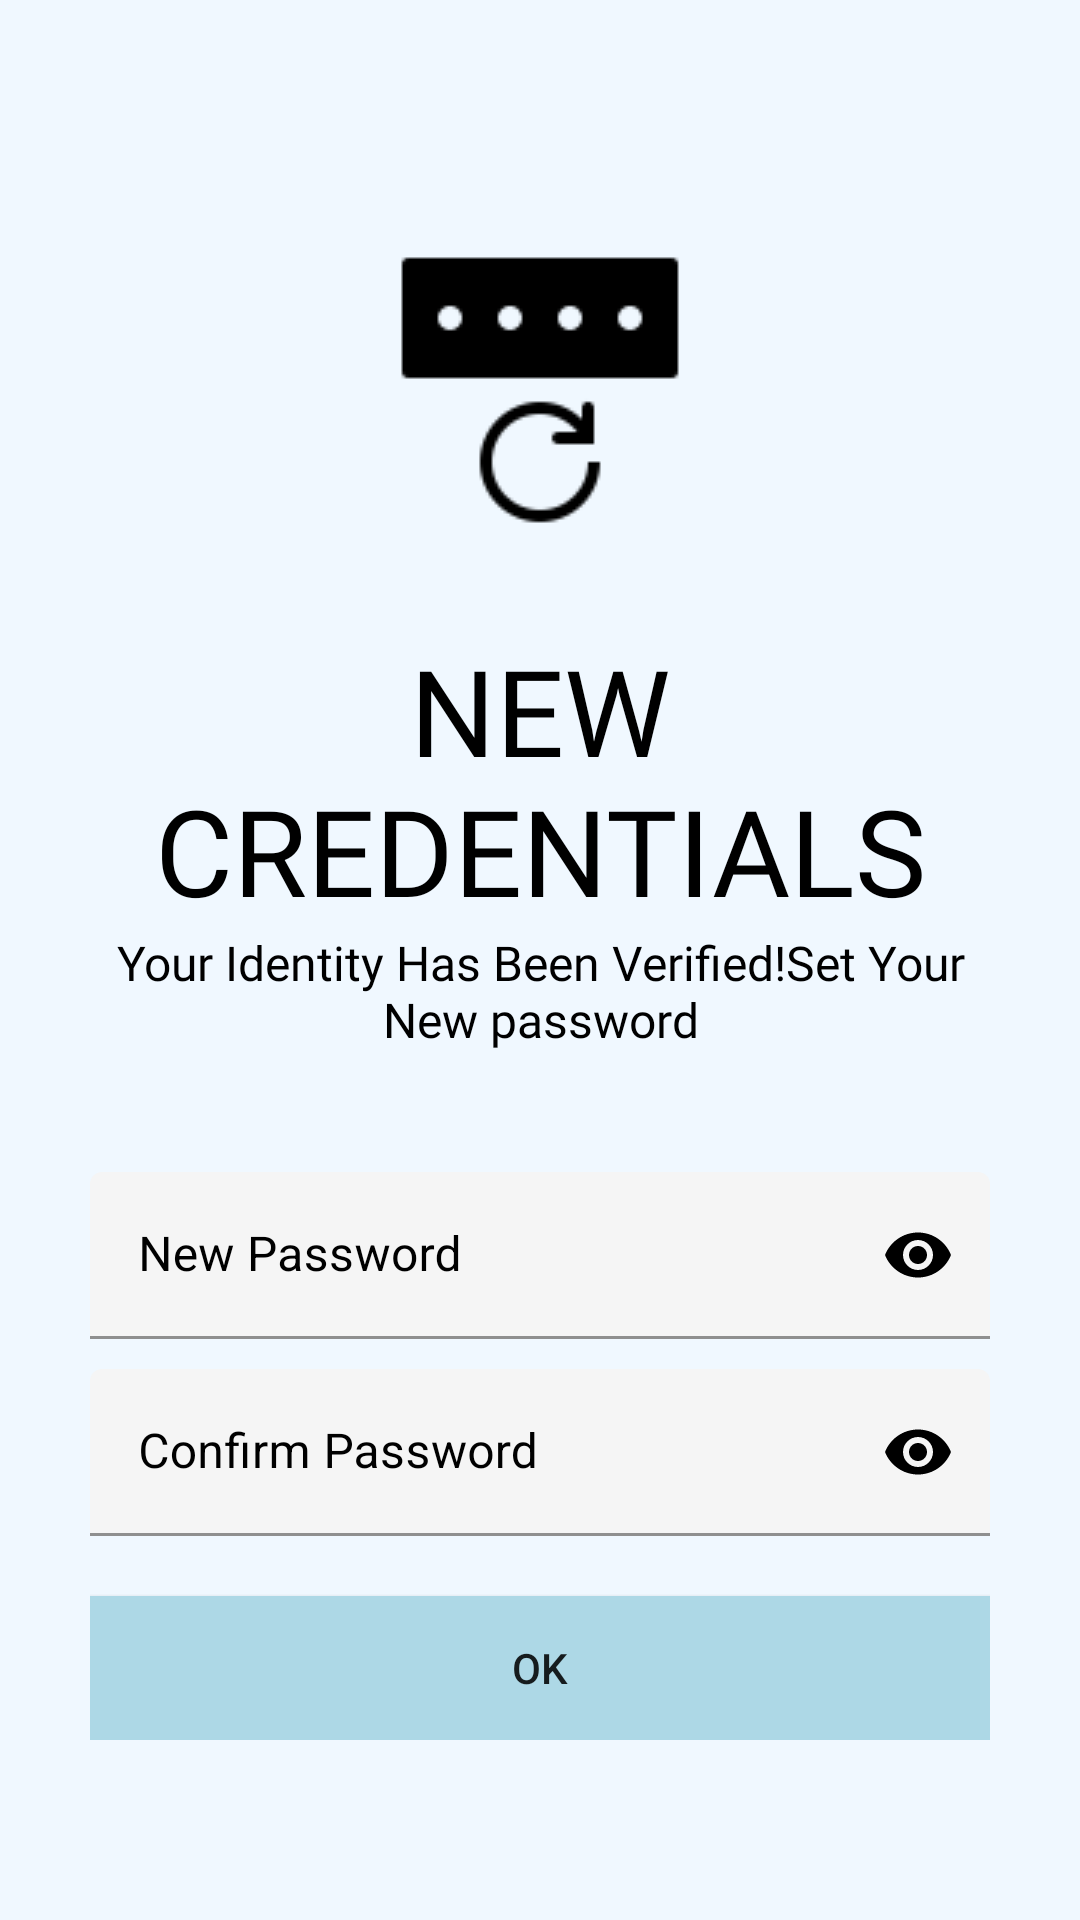

Point at icon controls on the screen. Image size 1080*1920, points as (x=x, y=y).
password: (x=540, y=390)
